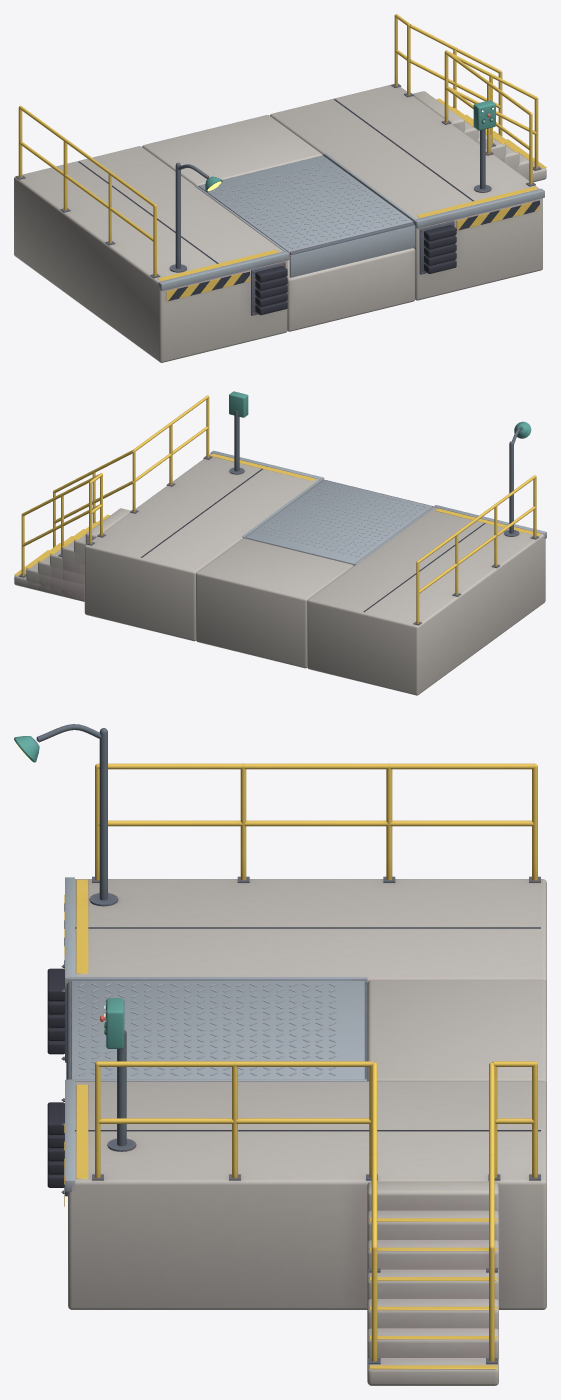
The model's file is loading-dock.glb.
3 views of the same model, one above another, from view 1: azimuth 30°, elevation 25°; view 2: azimuth 150°, elevation 25°; view 3: azimuth 270°, elevation 25° (orthographic). The views are drawn at different scales.
Visible parts, largest first — view 1: loading-dock_body, loading-dock_leveler; view 2: loading-dock_body, loading-dock_leveler; view 3: loading-dock_body, loading-dock_leveler.
Part boxes in pixels (<box>): loading-dock_body: <box>14,14,546,362</box>; loading-dock_leveler: <box>198,155,414,277</box>; loading-dock_body: <box>14,391,546,695</box>; loading-dock_leveler: <box>245,480,432,565</box>; loading-dock_body: <box>14,724,546,1385</box>; loading-dock_leveler: <box>66,981,367,1080</box>.
Bounding box in the file's own units: 7.5 × 2.84 × 4.45.
Materials: 4 (2 with a texture image).
